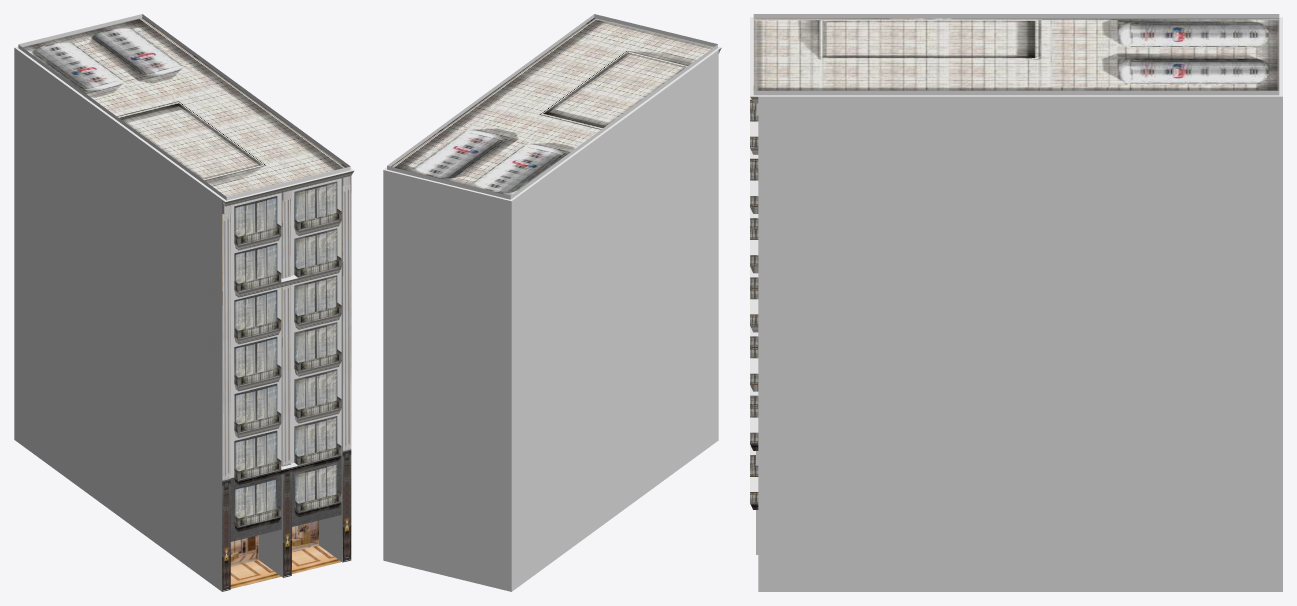
3 renders of one model, left to right at view 1: azimuth 30°, elevation 25°; view 2: azimuth 150°, elevation 25°; view 3: azimuth 270°, elevation 25°, orthographic. The views are drawn at different scales.
Parts seen in each view (by area): view 1: HN_170_fukurai_holtel; view 2: HN_170_fukurai_holtel; view 3: HN_170_fukurai_holtel.
Boxes of the visible parts, x1,y1,x2,y2 form: HN_170_fukurai_holtel: (14,14,354,591); HN_170_fukurai_holtel: (383,14,721,591); HN_170_fukurai_holtel: (750,14,1282,591).
Bounding box in the file's own units: 9 × 26.4 × 25.5.
1 material, 1 textured.
